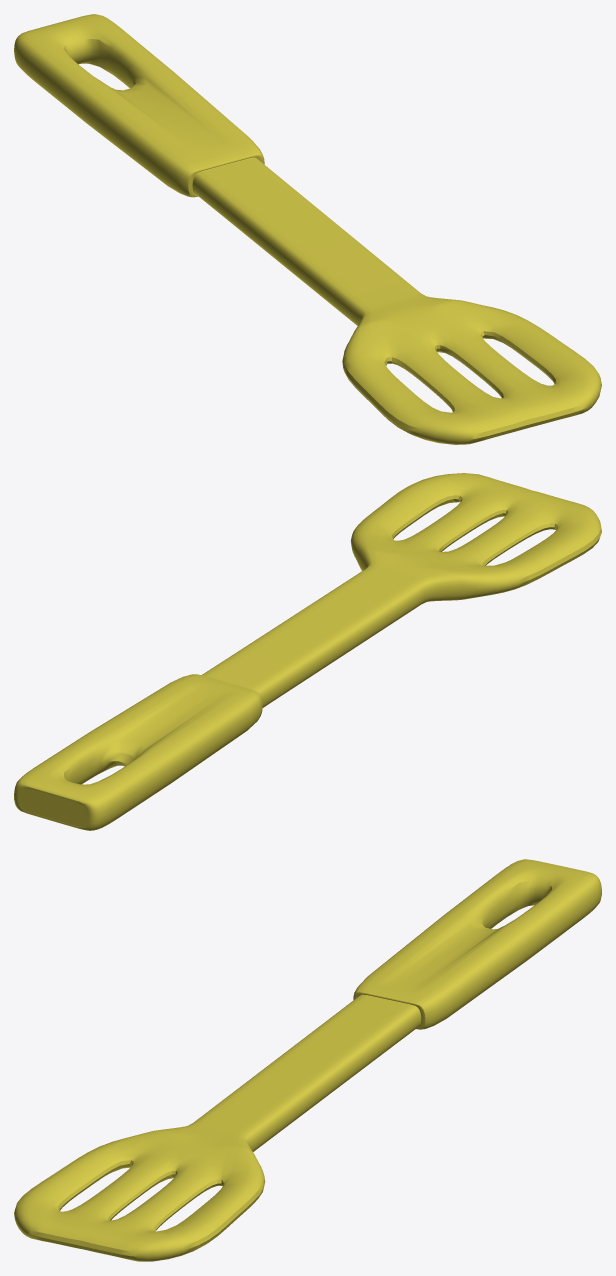
Rendered from espatula3.fbx.
The picture shows the model from 3 angles, top to bottom: view 1: azimuth 30°, elevation 25°; view 2: azimuth 150°, elevation 25°; view 3: azimuth 330°, elevation 25°; orthographic projection. The views are drawn at different scales.
Parts seen in each view (by area): view 1: espatula3; view 2: espatula3; view 3: espatula3.
Part boxes in pixels (x1=…): espatula3: x1=14, y1=14, x2=601, y2=444; espatula3: x1=14, y1=473, x2=601, y2=830; espatula3: x1=14, y1=859, x2=601, y2=1261.
Bounding box in the file's own units: 11.71 × 3.22 × 50.13.
